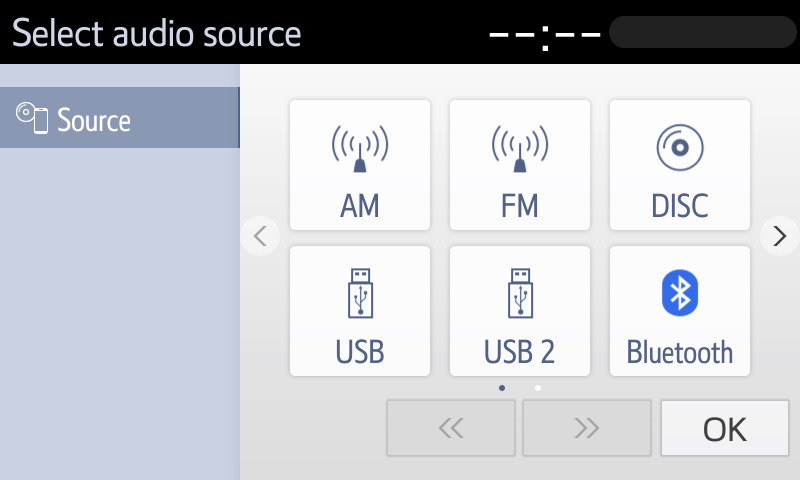touchPart: (285, 242, 434, 383), (282, 95, 434, 231), (610, 241, 756, 380), (449, 240, 593, 378), (445, 99, 595, 230), (610, 98, 756, 230), (659, 399, 793, 459), (760, 215, 800, 260)
untouchPart: (1, 82, 241, 152), (476, 8, 794, 54), (9, 12, 300, 53), (382, 395, 517, 465), (521, 394, 654, 461), (241, 212, 285, 260)
